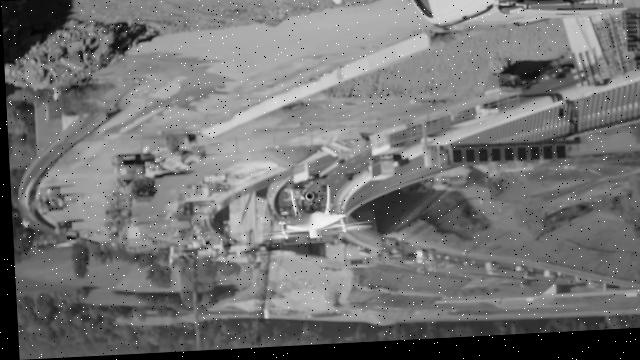drone: (259, 186, 369, 245)
